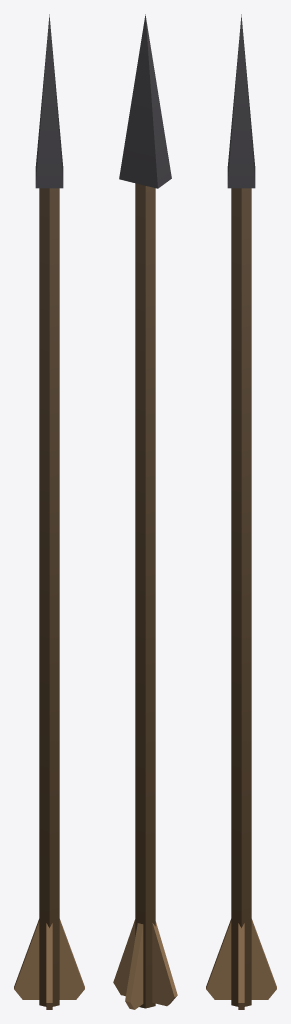
The model's file is Arrow_01.glb.
The picture shows the model from 3 angles, left to right: view 1: azimuth 90°, elevation 25°; view 2: azimuth 150°, elevation 25°; view 3: azimuth 270°, elevation 25°; orthographic projection.
Parts seen in each view (by area): view 1: Arrow_01; view 2: Arrow_01; view 3: Arrow_01.
Part boxes in pixels (x1,y1,x2,y2): Arrow_01: (14,14,84,1009); Arrow_01: (113,14,177,1009); Arrow_01: (206,14,276,1009).
Size of the model in its own units: 0.039 by 0.6 by 0.039.
1 material, 1 textured.
